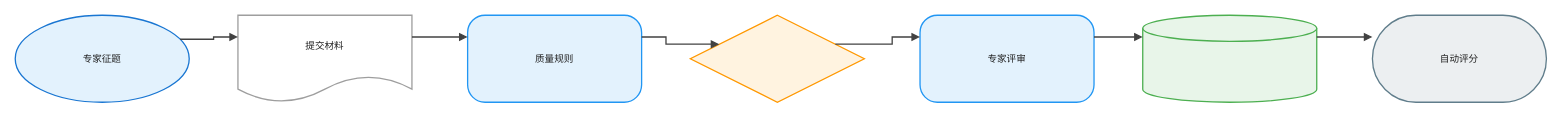
Some shapes in this 1563 by 118 pixel diagram are drawn without their labels. Here are the shapes that lost their labels. From the top down, the centre of each, then its label:
the point at 777,58: 模型筛选
the point at 1229,58: 公开+保留集
